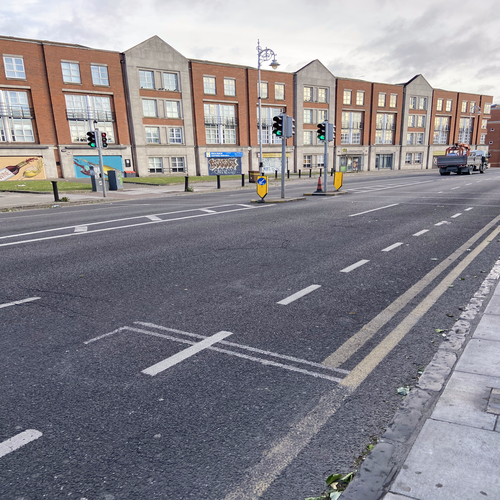Keep Left: (257, 175, 269, 198)
Traffic Light: (317, 118, 333, 146), (271, 114, 288, 139), (84, 129, 99, 150)
